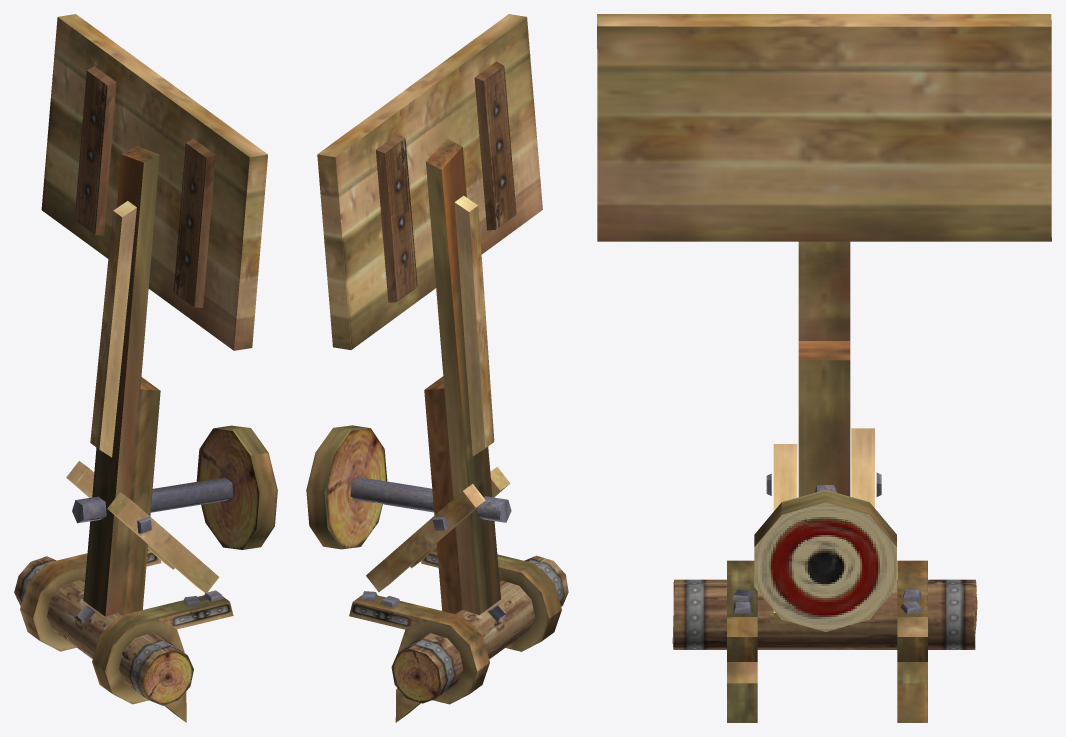
File: P_Modul_37.FBX
The picture shows the model from 3 angles, left to right: view 1: azimuth 30°, elevation 25°; view 2: azimuth 150°, elevation 25°; view 3: azimuth 270°, elevation 25°; orthographic projection. The views are drawn at different scales.
Parts seen in each view (by area): view 1: P_Modul_37_Bridge1, P_Modul_37_Bridge10, P_Modul_37_Bridge5, P_Modul_37_Bridge4, P_Modul_37_Bridge9, P_Modul_37_Hinge2, P_Modul_37_Bridge2, P_Modul_37_Bridge3, P_Modul_37_Bridge11, P_Modul_37_Hinge1, P_Modul_37_Bridge7, P_Modul_37_Bridge6 (+1 smaller); view 2: P_Modul_37_Bridge1, P_Modul_37_Bridge10, P_Modul_37_Bridge5, P_Modul_37_Bridge4, P_Modul_37_Bridge9, P_Modul_37_Bridge11, P_Modul_37_Hinge1, P_Modul_37_Bridge2, P_Modul_37_Bridge3, P_Modul_37_Hinge2, P_Modul_37_Bridge8, P_Modul_37_Bridge6 (+1 smaller); view 3: P_Modul_37_Bridge1, P_Modul_37_Bridge5, P_Modul_37_Bridge4, P_Modul_37_Bridge11, P_Modul_37_Bridge10, P_Modul_37_Hinge1, P_Modul_37_Hinge2, P_Modul_37_Bridge8, P_Modul_37_Bridge7.
Part boxes in pixels (x1,y1,x2,y2): P_Modul_37_Bridge1: (41, 14, 267, 350); P_Modul_37_Bridge10: (83, 146, 159, 616); P_Modul_37_Bridge5: (196, 425, 277, 549); P_Modul_37_Bridge4: (14, 556, 193, 705); P_Modul_37_Bridge9: (90, 201, 136, 457); P_Modul_37_Hinge2: (92, 595, 233, 722); P_Modul_37_Bridge2: (173, 138, 215, 307); P_Modul_37_Bridge3: (74, 66, 116, 235); P_Modul_37_Bridge11: (122, 377, 160, 613); P_Modul_37_Hinge1: (20, 549, 161, 651); P_Modul_37_Bridge7: (107, 492, 218, 592); P_Modul_37_Bridge6: (72, 477, 233, 523); P_Modul_37_Bridge1: (317, 14, 542, 349); P_Modul_37_Bridge10: (426, 138, 500, 614); P_Modul_37_Bridge5: (306, 425, 387, 549); P_Modul_37_Bridge4: (391, 555, 568, 703); P_Modul_37_Bridge9: (454, 195, 494, 456); P_Modul_37_Bridge11: (424, 376, 479, 614); P_Modul_37_Hinge1: (349, 595, 489, 722); P_Modul_37_Bridge2: (474, 61, 516, 230); P_Modul_37_Bridge3: (376, 134, 417, 302); P_Modul_37_Hinge2: (421, 548, 561, 651); P_Modul_37_Bridge8: (366, 484, 485, 591); P_Modul_37_Bridge6: (350, 477, 511, 522); P_Modul_37_Bridge1: (597, 14, 1051, 241); P_Modul_37_Bridge5: (754, 490, 896, 631); P_Modul_37_Bridge4: (672, 579, 977, 649); P_Modul_37_Bridge11: (798, 341, 850, 626); P_Modul_37_Bridge10: (798, 241, 850, 340); P_Modul_37_Hinge1: (897, 560, 927, 722); P_Modul_37_Hinge2: (727, 560, 757, 722); P_Modul_37_Bridge8: (851, 428, 874, 621); P_Modul_37_Bridge7: (773, 444, 797, 621).
Size of the model in its own units: 5.1 by 15.65 by 9.03.
Materials: 6 (6 with a texture image).
